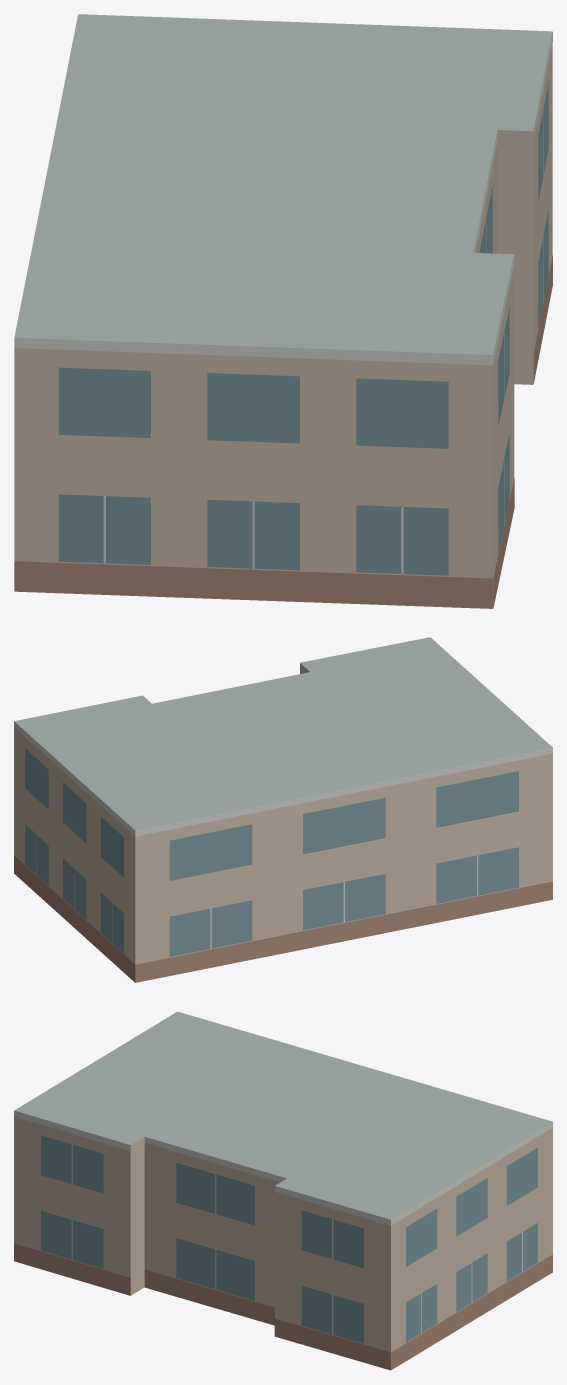
The model's file is survey-upis-32804790.glb.
3 renders of one model, top to bottom at view 1: azimuth 30°, elevation 25°; view 2: azimuth 150°, elevation 25°; view 3: azimuth 270°, elevation 25°, orthographic. The views are drawn at different scales.
Parts seen in each view (by area): view 1: survey-upis-32804790.tmp; view 2: survey-upis-32804790.tmp; view 3: survey-upis-32804790.tmp.
Part boxes in pixels (x1,y1,x2,y2): survey-upis-32804790.tmp: (14,14,552,608); survey-upis-32804790.tmp: (14,637,552,982); survey-upis-32804790.tmp: (14,1011,552,1370).
Size of the model in its own units: 18.08 by 6.1 by 19.77.
